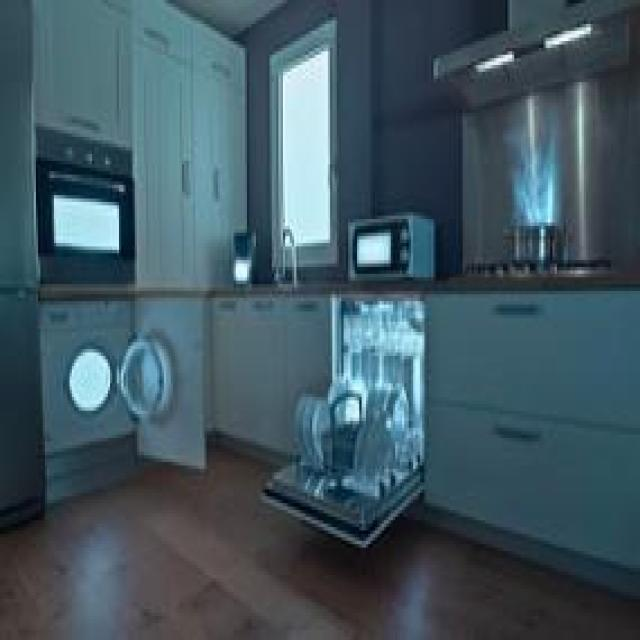dishwasher: (258, 284, 424, 544)
